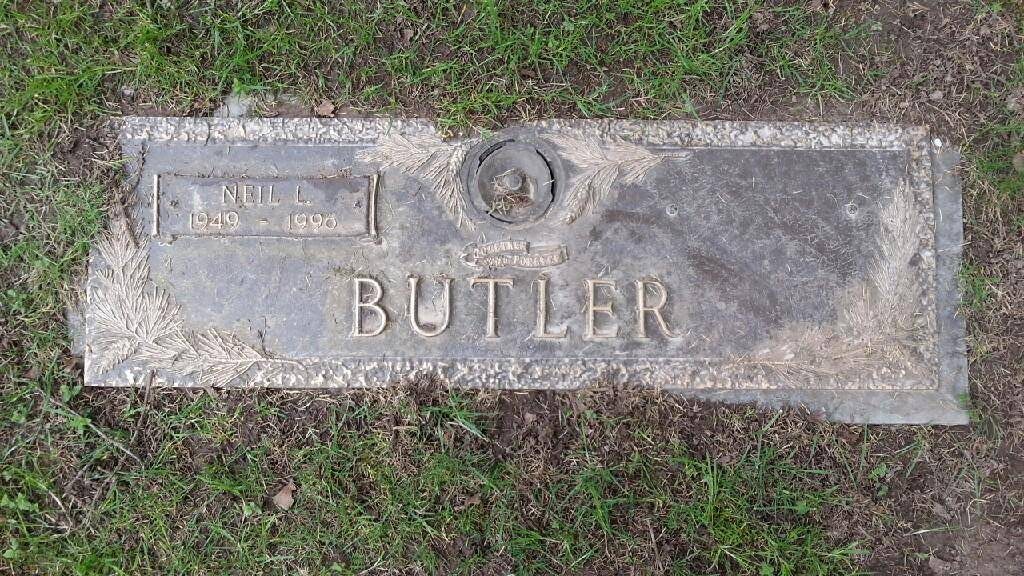flat: (88, 109, 968, 424)
